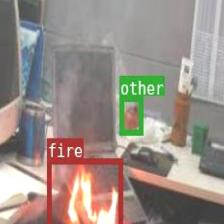fire: (46, 158, 121, 224)
